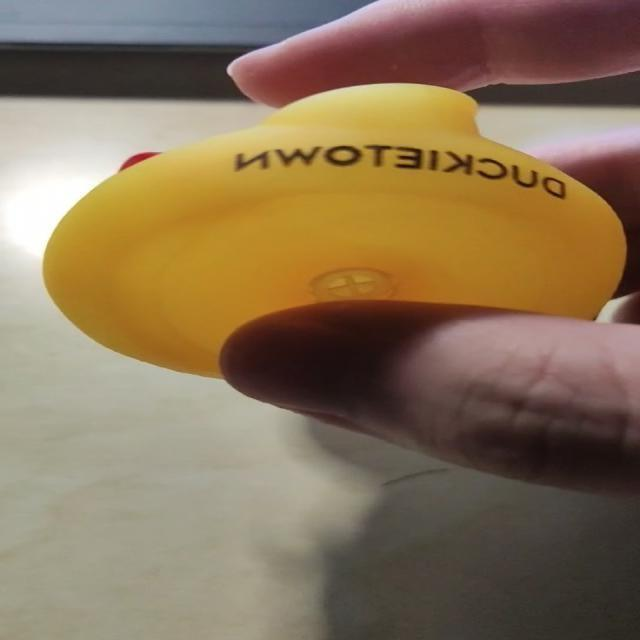rubber-duck: (43, 83, 623, 374)
